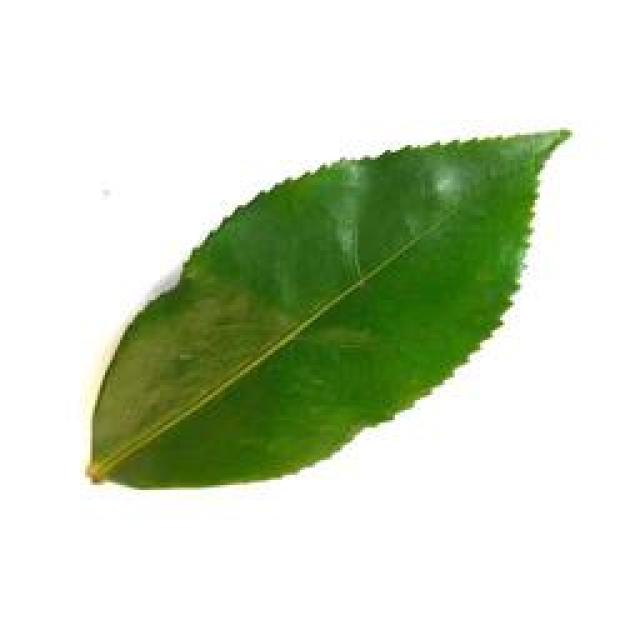Healthy: (80, 116, 576, 509)
